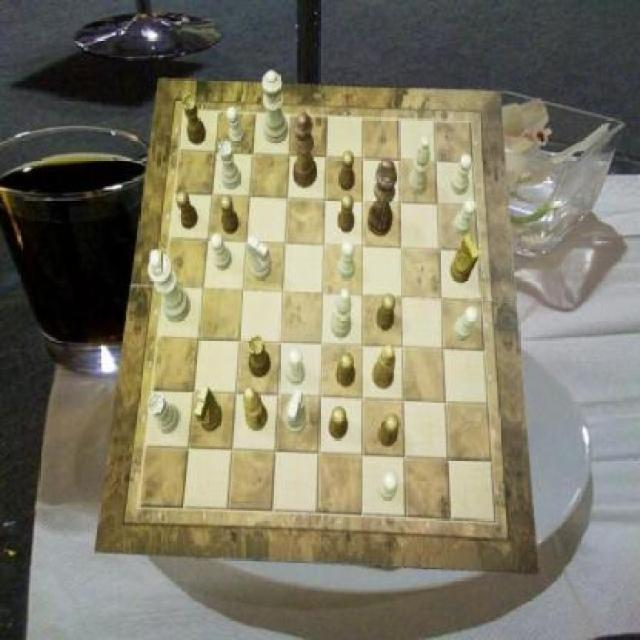bishop: (243, 388, 268, 432), (372, 344, 396, 388)
black-bishop: (368, 157, 398, 235)
black-king: (451, 234, 480, 283), (194, 386, 221, 432)
black-knight: (175, 191, 198, 229), (378, 414, 401, 448), (220, 195, 239, 234), (377, 292, 396, 330), (338, 151, 356, 191), (337, 352, 357, 387), (338, 194, 356, 232), (328, 406, 348, 440)
black-pawn: (292, 112, 316, 188)
black-queen: (182, 94, 206, 144), (248, 335, 270, 378)
black-rook: (408, 137, 430, 195), (331, 290, 352, 338)
white-bishop: (147, 249, 190, 323)
white-king: (248, 235, 272, 281), (285, 389, 307, 435)
white-knight: (451, 154, 473, 195), (210, 232, 232, 270), (454, 198, 477, 234), (454, 308, 478, 342), (227, 108, 246, 148), (286, 348, 306, 385), (339, 240, 356, 280), (377, 472, 398, 500)
white-pawn: (262, 71, 288, 143)
white-queen: (148, 394, 180, 434), (218, 140, 242, 189)
